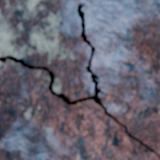brick: (0, 0, 159, 153), (0, 60, 159, 159)
crack: (0, 2, 159, 157)
